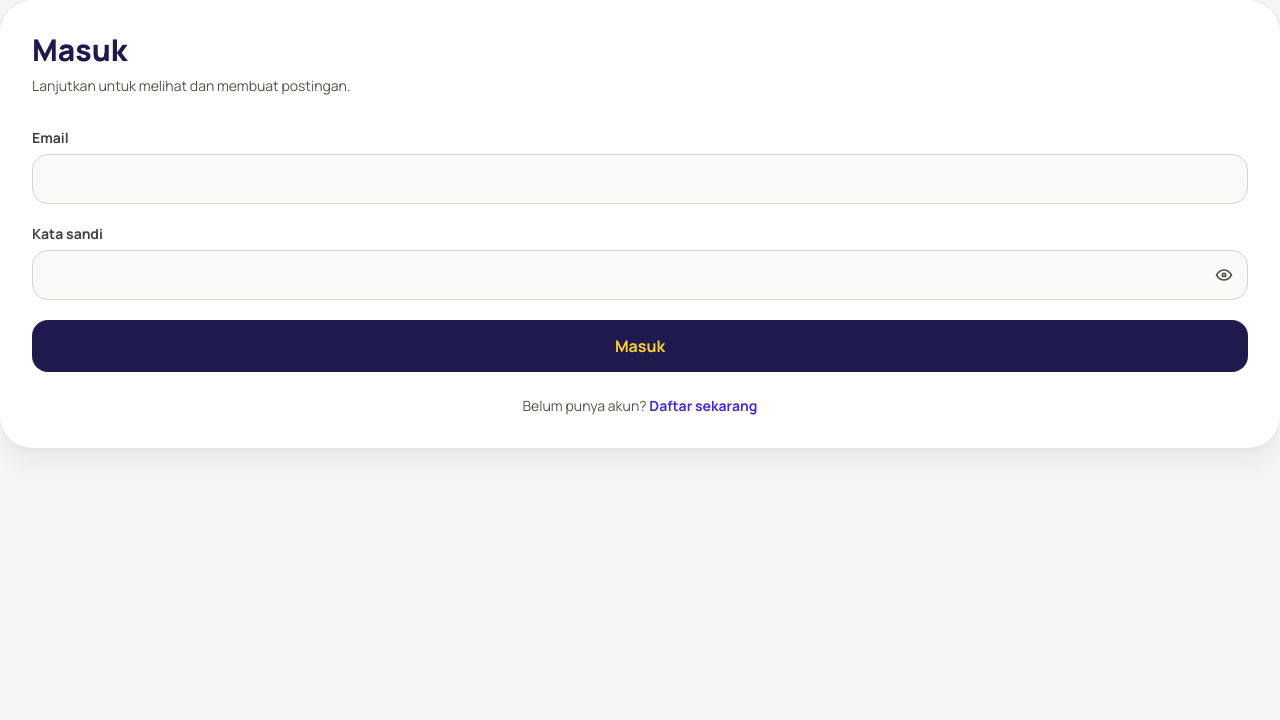
Scenario: LoginPage › menolak email dan kata sandi yang tidak valid
The width and height of the screenshot is (1280, 720).
Click the button "Masuk".
click(640, 346)  # box [32,320,1248,372]
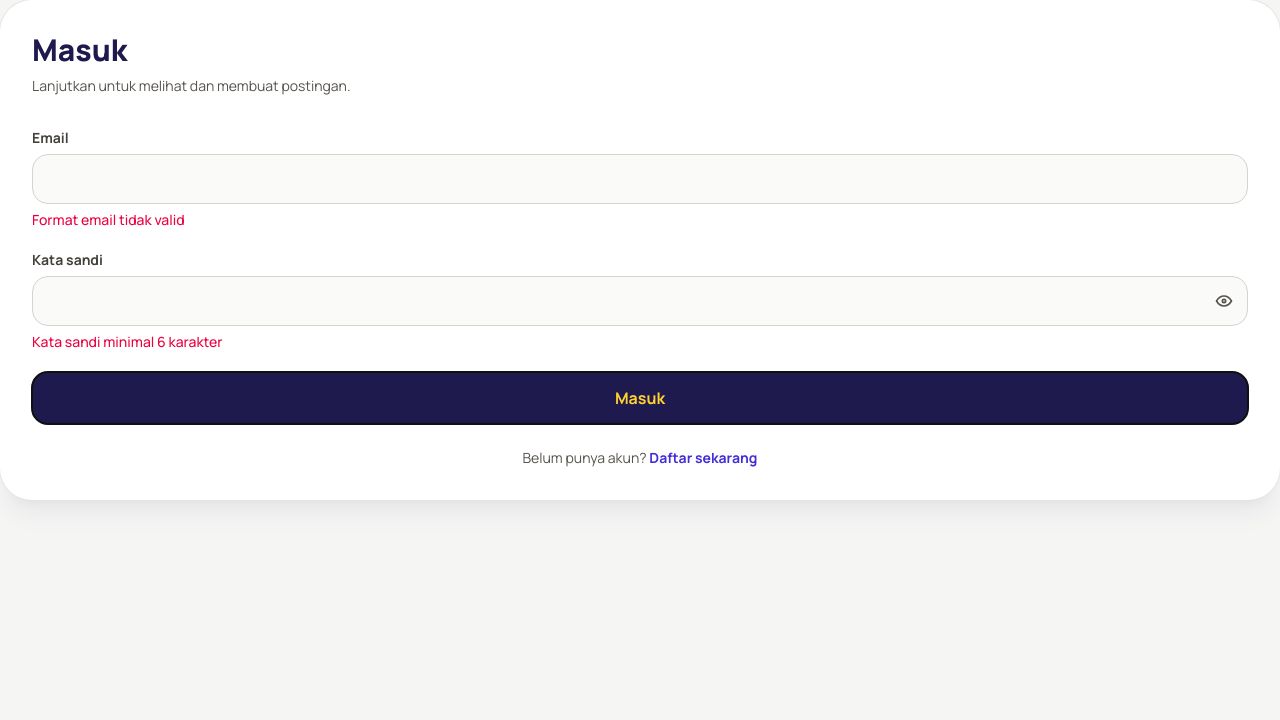
Result: the text "Format email tidak valid" is shown at [32,210,185,229]
Result: the text "Kata sandi minimal 6 karakter" is shown at [32,332,222,351]
